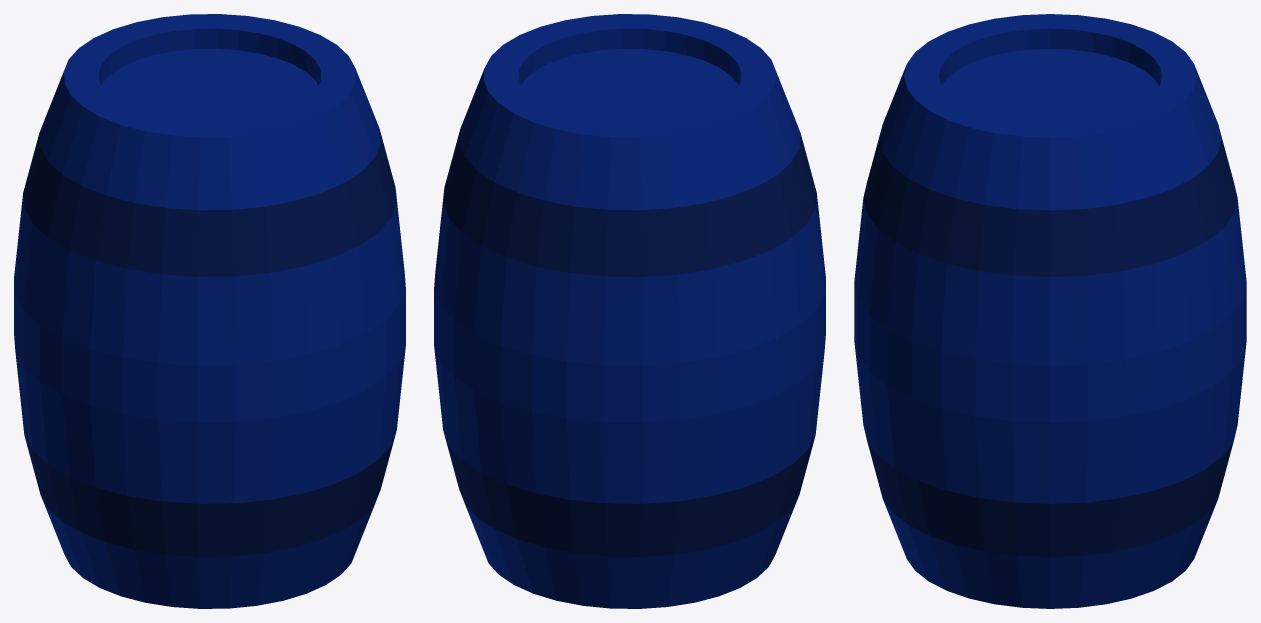
File: Barrel3.fbx
The picture shows the model from 3 angles, left to right: view 1: azimuth 30°, elevation 25°; view 2: azimuth 150°, elevation 25°; view 3: azimuth 270°, elevation 25°; orthographic projection.
Parts seen in each view (by area): view 1: Circle.001; view 2: Circle.001; view 3: Circle.001.
Boxes of the visible parts, x1,y1,x2,y2 form: Circle.001: (14, 14, 405, 608); Circle.001: (434, 14, 825, 608); Circle.001: (854, 14, 1246, 608).
Size of the model in its own units: 233 by 308 by 233.
